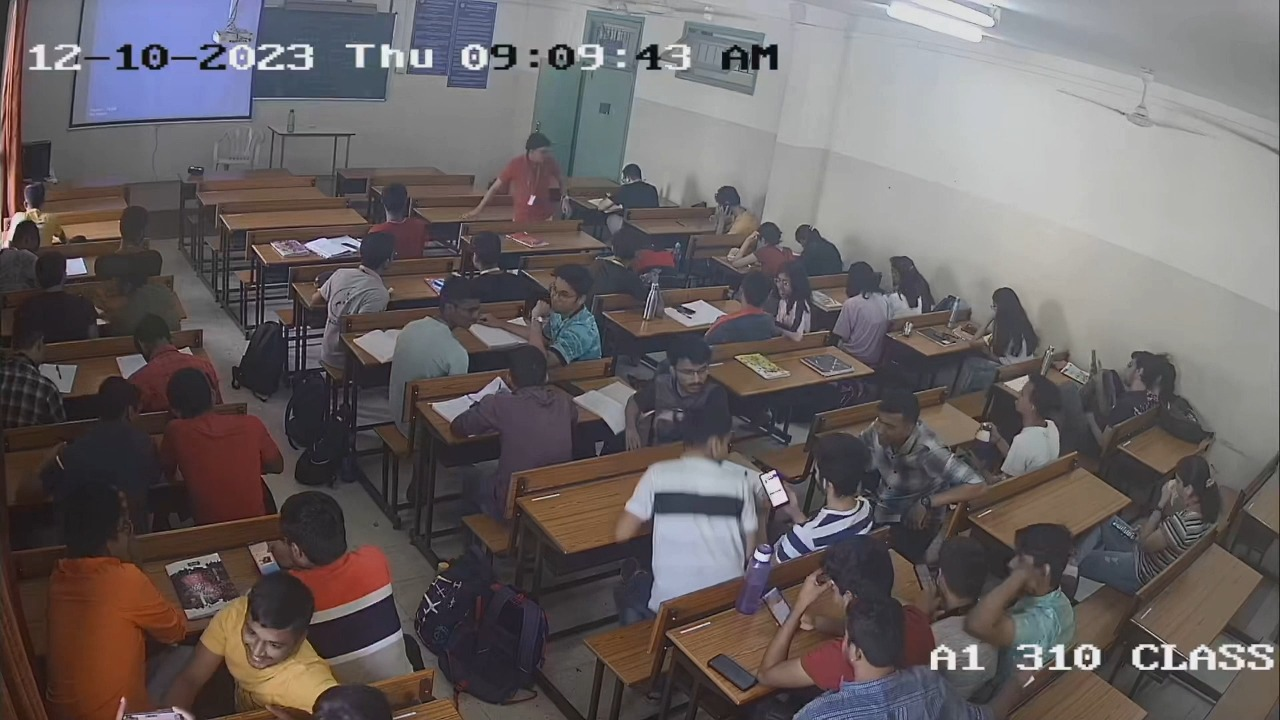cell-phones: (705, 652, 760, 692), (759, 585, 796, 632), (245, 537, 283, 581), (759, 467, 791, 511), (912, 561, 935, 599), (1111, 516, 1138, 540), (553, 378, 587, 397), (671, 304, 697, 315), (961, 325, 984, 337)
person: (283, 490, 412, 663), (797, 597, 977, 720), (793, 533, 938, 681), (767, 430, 884, 565), (624, 332, 733, 455), (1131, 453, 1221, 583), (927, 530, 1000, 689), (702, 271, 777, 340), (973, 286, 1039, 362)
